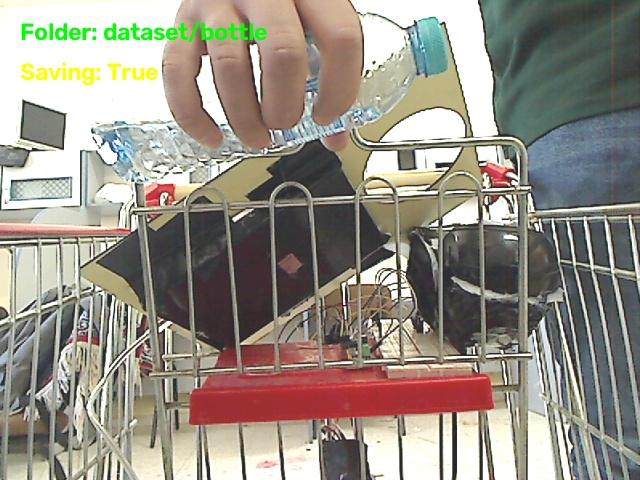Bottle: (92, 14, 447, 181)
can: (247, 1, 310, 134)
